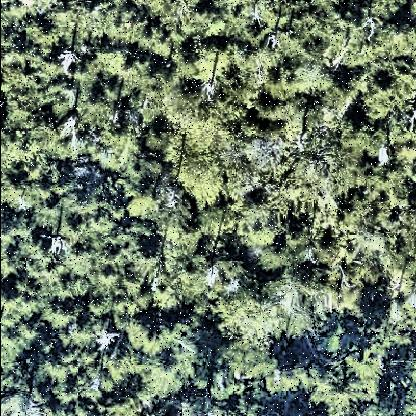tree-top: (300, 323, 388, 410), (170, 115, 230, 199), (220, 334, 286, 390), (219, 283, 285, 336), (358, 74, 396, 124)
